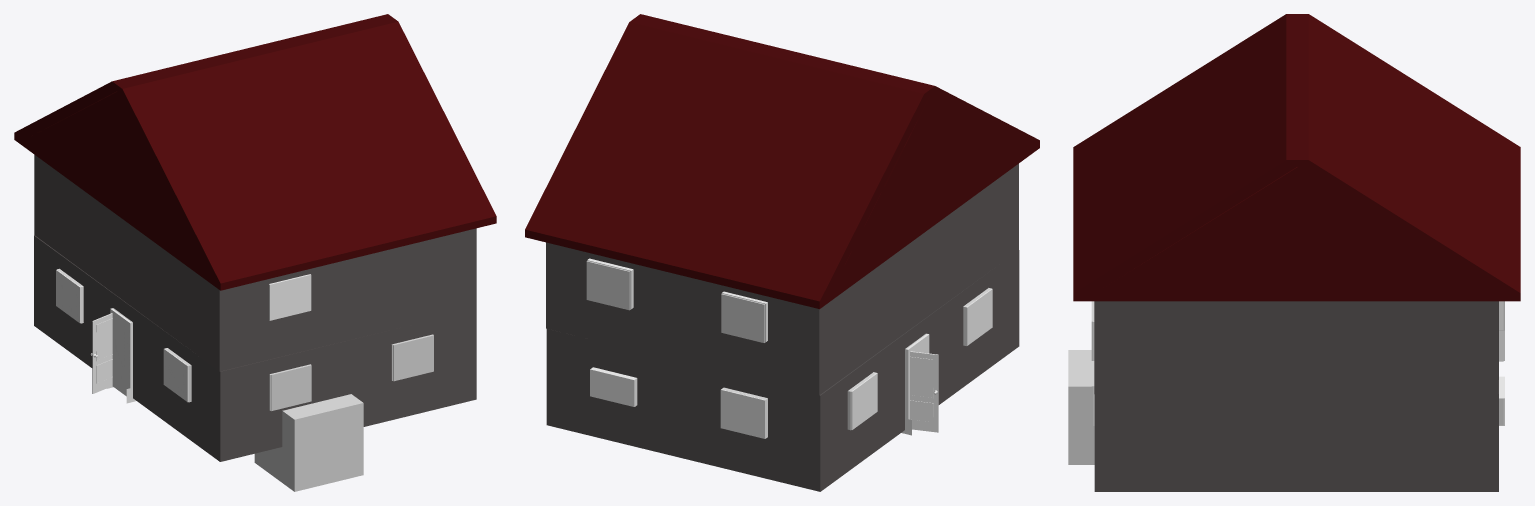
File: casa.glb
3 views of the same model, side by side, from view 1: azimuth 30°, elevation 25°; view 2: azimuth 150°, elevation 25°; view 3: azimuth 270°, elevation 25° (orthographic). The views are drawn at different scales.
Parts seen in each view (by area): view 1: Cube.017, Plane.001, Plane, Cube.016, CTRL_Hole.013, CTRL_Hole, VENDANA, VENDANA.001, Door, CTRL_Hole.012, CTRL_Hole.011; view 2: Cube.017, Plane, Plane.001, Door, CTRL_Hole.009, VENDANA.008, VENDANA.007, CTRL_Hole.010, CTRL_Hole.011, CTRL_Hole.012, CTRL_Hole; view 3: Cube.017, Plane, Plane.001, Cube.016.
Part boxes in pixels (left/top/right/bottom): Cube.017: left=14, top=14, right=496, bottom=290; Plane.001: left=34, top=155, right=476, bottom=371; Plane: left=34, top=235, right=476, bottom=461; Cube.016: left=254, top=394, right=363, bottom=491; CTRL_Hole.013: left=269, top=274, right=311, bottom=320; CTRL_Hole: left=110, top=308, right=132, bottom=396; VENDANA: left=270, top=364, right=311, bottom=411; VENDANA.001: left=392, top=334, right=433, bottom=381; Door: left=92, top=313, right=112, bottom=393; CTRL_Hole.012: left=56, top=270, right=83, bottom=323; CTRL_Hole.011: left=163, top=348, right=188, bottom=402; Cube.017: left=525, top=14, right=1039, bottom=309; Plane: left=546, top=250, right=1019, bottom=491; Plane.001: left=546, top=163, right=1018, bottom=395; Door: left=910, top=351, right=938, bottom=432; CTRL_Hole.009: left=720, top=387, right=767, bottom=438; VENDANA.008: left=586, top=261, right=630, bottom=310; VENDANA.007: left=721, top=293, right=765, bottom=342; CTRL_Hole.010: left=590, top=367, right=637, bottom=406; CTRL_Hole.011: left=963, top=288, right=992, bottom=345; CTRL_Hole.012: left=851, top=372, right=877, bottom=429; CTRL_Hole: left=905, top=334, right=929, bottom=430; Cube.017: left=1073, top=14, right=1520, bottom=301; Plane: left=1094, top=380, right=1498, bottom=491; Plane.001: left=1094, top=301, right=1498, bottom=394; Cube.016: left=1068, top=350, right=1094, bottom=464.
Size of the model in its own units: 8.48 by 9.61 by 10.47.
